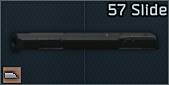FN Five-seveN MK2 pistol slide: (0, 0, 169, 85)
